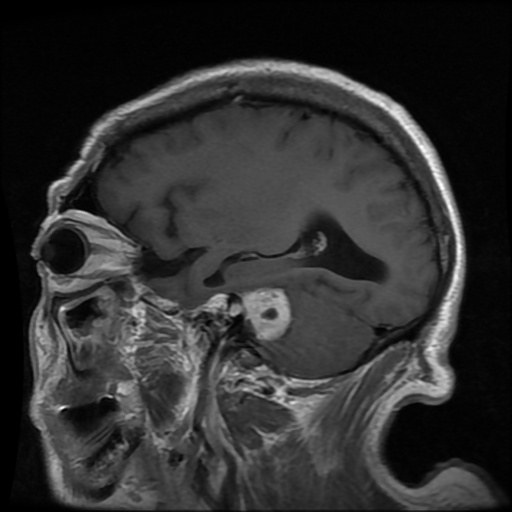meningioma: (242, 284, 289, 339)
